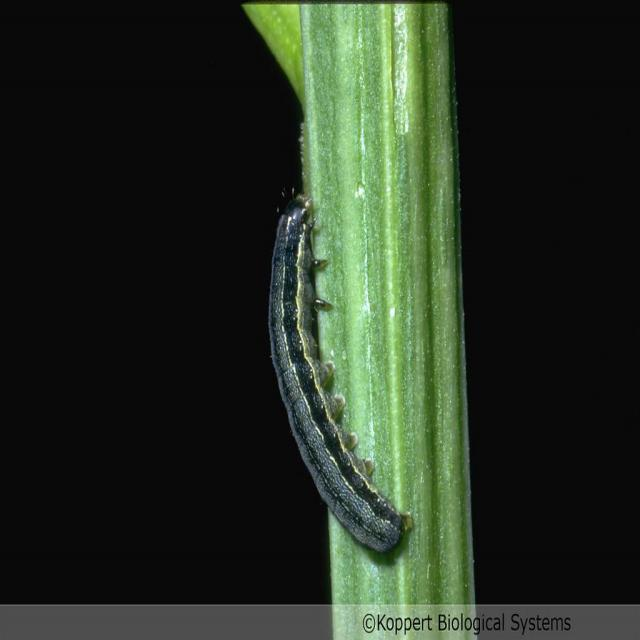BeetArmyWorm-Larva-: (266, 197, 416, 562)
